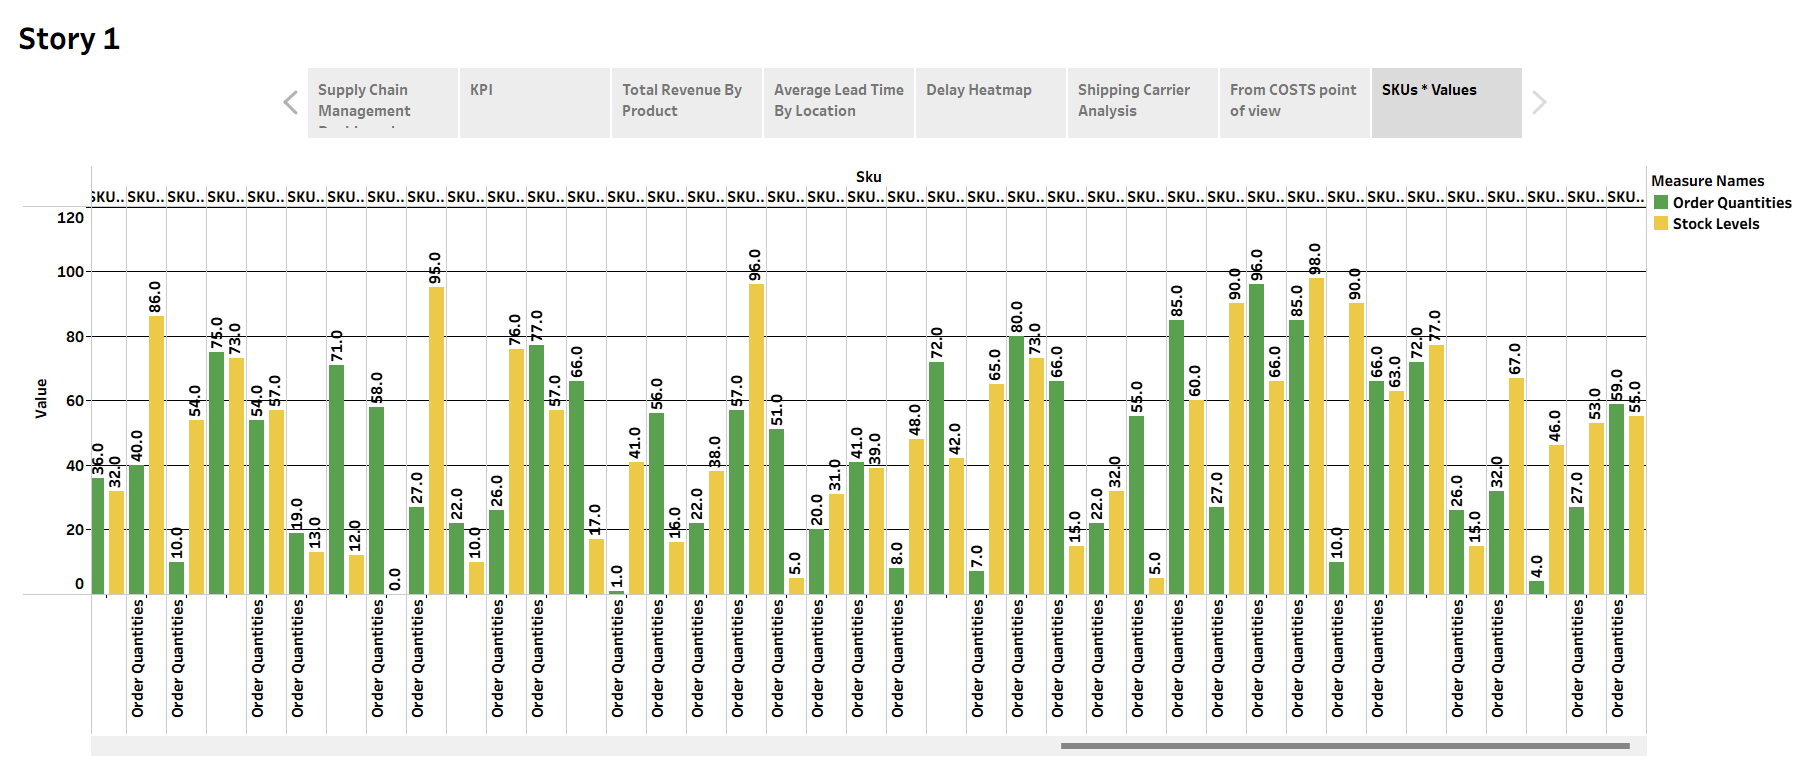

Layout of this report page (visuals, bound fields, positions):
{"tool":"tableau","page":{"name":"Dashboard 5","canvas":[1000,1000],"units":"permille","ordinal":4},"visuals":[{"type":"title","box":[4.8,10.7,990.3,67]},{"type":"worksheet","title":"Sheet 8","mark":"Automatic","cols":["sku"],"box":[4.8,77.7,879.9,911.5]},{"type":"legend","title":"Sheet 8","param":"[federated.15tfg9s0zh5uvz1e8yaf50bd6k9i].[:Measure Names]","box":[884.7,77.7,110.4,96.5]}]}

Visuals, with their boxes on the dashboard's canvas, which has no fixed pixel size, in thousandths of its width and height (x1, y1, x2, y2). These are canvas units, not pixel positions in the 1798x774 screenshot, which may show the page scaled, cropped or inside an application window:
title: <bbox>5, 11, 995, 78</bbox>
"Sheet 8" worksheet: <bbox>5, 78, 885, 989</bbox>
"Sheet 8" legend: <bbox>885, 78, 995, 174</bbox>
